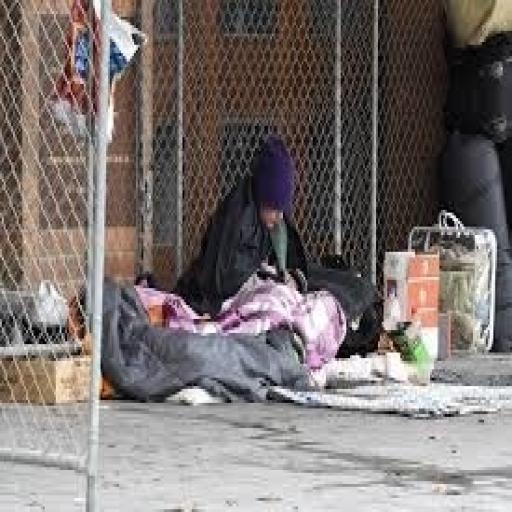sleeping: (171, 129, 311, 316)
